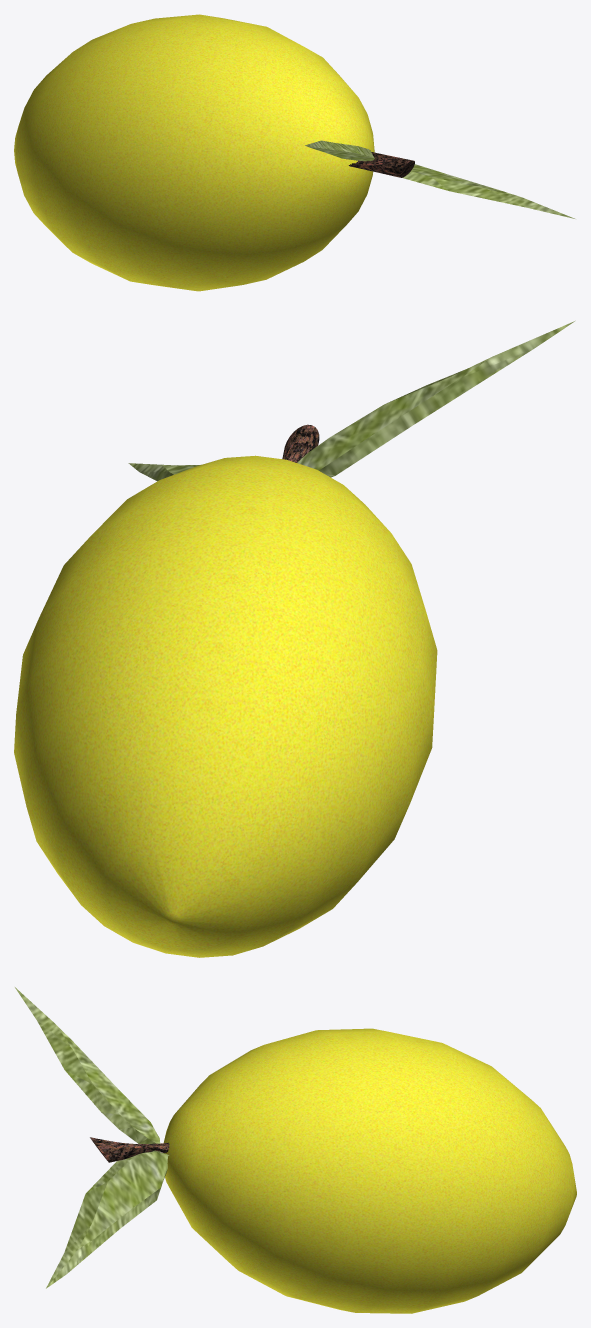
3 views of the same model, one above another, from view 1: azimuth 30°, elevation 25°; view 2: azimuth 150°, elevation 25°; view 3: azimuth 270°, elevation 25° (orthographic). The views are drawn at different scales.
Parts seen in each view (by area): view 1: group_0, group_2 (×2), group_4; view 2: group_0, group_2, group_4; view 3: group_0, group_2 (×2), group_4.
Boxes of the visible parts, <box> form: group_0: <box>14,14,374,291</box>; group_2 (×2): <box>305,140,574,218</box>; group_4: <box>348,152,414,177</box>; group_0: <box>14,455,437,957</box>; group_2: <box>297,320,575,477</box>; group_4: <box>282,424,319,462</box>; group_0: <box>163,1028,576,1313</box>; group_2 (×2): <box>15,987,169,1288</box>; group_4: <box>90,1137,169,1162</box>.
Bounding box in the file's own units: 464 × 625 × 351.
